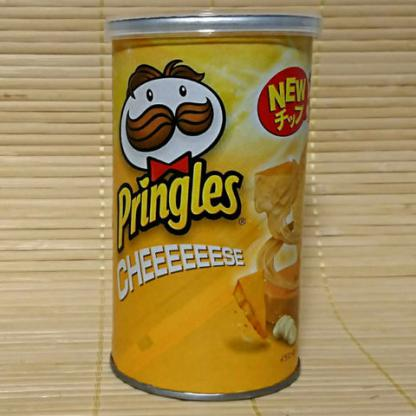potatochip: (94, 5, 328, 408)
